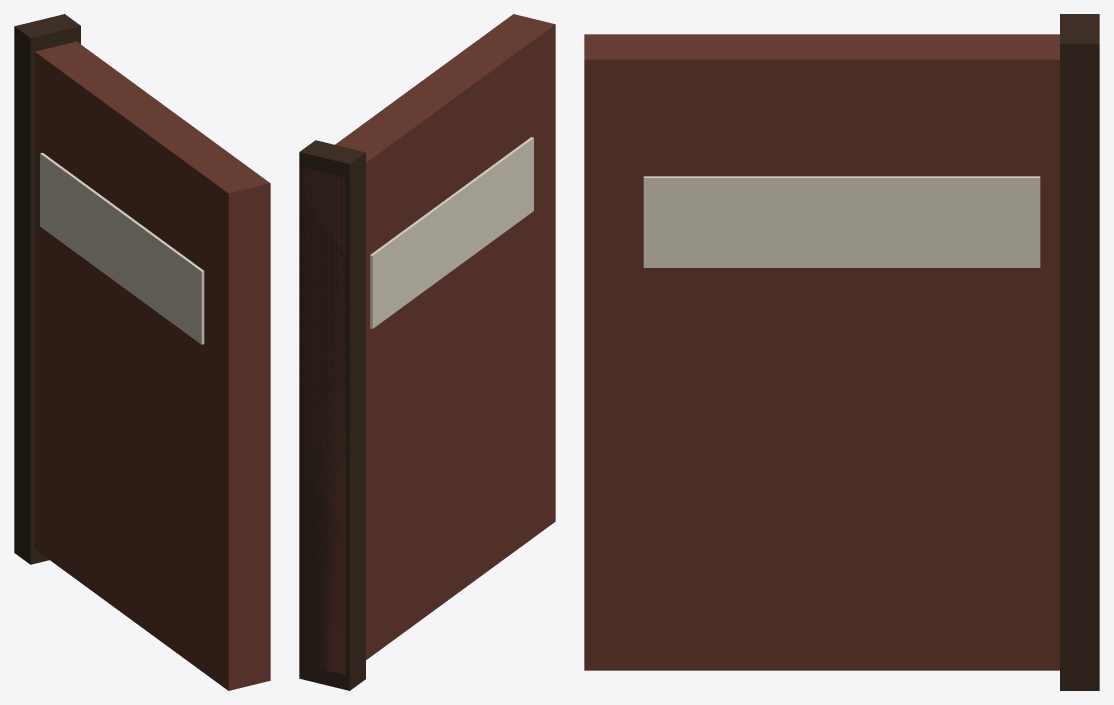
Rendered from folder.glb.
The picture shows the model from 3 angles, left to right: view 1: azimuth 30°, elevation 25°; view 2: azimuth 150°, elevation 25°; view 3: azimuth 270°, elevation 25°; orthographic projection. The views are drawn at different scales.
Parts seen in each view (by area): view 1: 00_#6a3a2e_r110, 02_#3a2a1e_noshadow_r110, 01_#e8e0d0_noshadow_r110; view 2: 00_#6a3a2e_r110, 02_#3a2a1e_noshadow_r110, 01_#e8e0d0_noshadow_r110; view 3: 00_#6a3a2e_r110, 01_#e8e0d0_noshadow_r110, 02_#3a2a1e_noshadow_r110.
Boxes of the visible parts, x1=… form: 00_#6a3a2e_r110: x1=34, y1=41, x2=270, y2=690; 02_#3a2a1e_noshadow_r110: x1=14, y1=14, x2=80, y2=564; 01_#e8e0d0_noshadow_r110: x1=40, y1=152, x2=204, y2=344; 00_#6a3a2e_r110: x1=303, y1=14, x2=555, y2=675; 02_#3a2a1e_noshadow_r110: x1=299, y1=140, x2=365, y2=690; 01_#e8e0d0_noshadow_r110: x1=370, y1=137, x2=533, y2=328; 00_#6a3a2e_r110: x1=584, y1=34, x2=1059, y2=670; 01_#e8e0d0_noshadow_r110: x1=643, y1=176, x2=1040, y2=267; 02_#3a2a1e_noshadow_r110: x1=1060, y1=14, x2=1099, y2=690.
Bounding box in the file's own units: 0.036 × 0.36 × 0.26.
